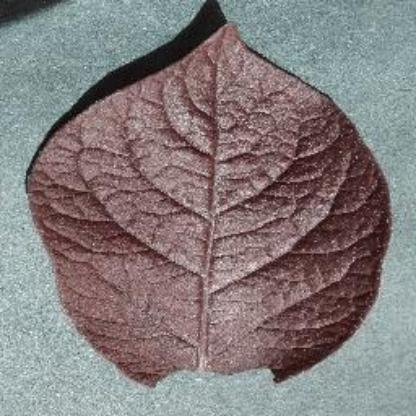Healthy-plant: (22, 16, 400, 392)
